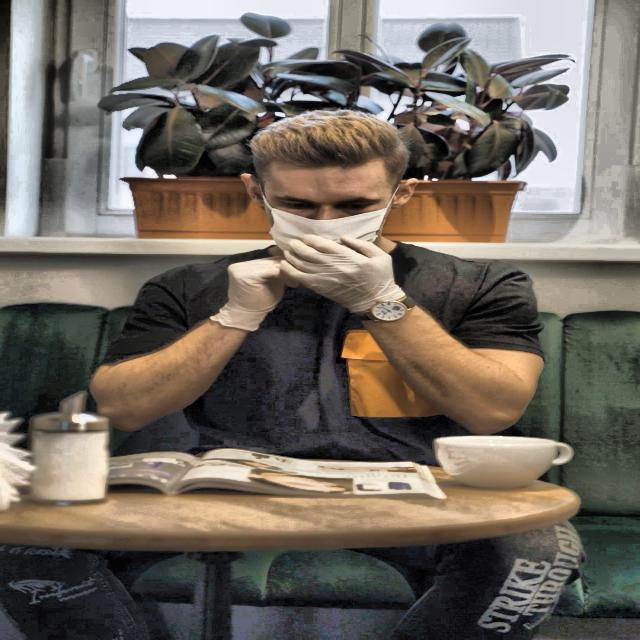gloved: (241, 232, 444, 304), (214, 252, 312, 336)
